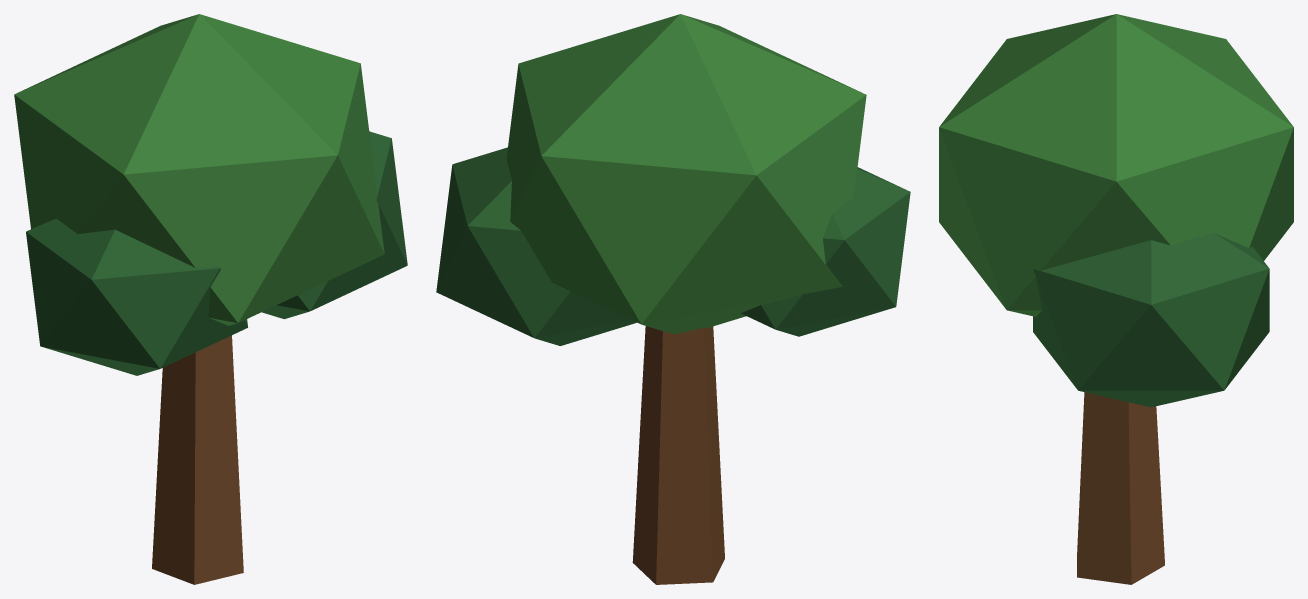
File: oak.fbx
The picture shows the model from 3 angles, left to right: view 1: azimuth 30°, elevation 25°; view 2: azimuth 150°, elevation 25°; view 3: azimuth 270°, elevation 25°; orthographic projection.
Parts seen in each view (by area): view 1: oak; view 2: oak; view 3: oak.
Part boxes in pixels (x1,y1,x2,y2): oak: (14, 14, 407, 584); oak: (436, 14, 910, 584); oak: (939, 14, 1293, 584).
Size of the model in its own units: 0.6599 by 0.875 by 0.5104.
